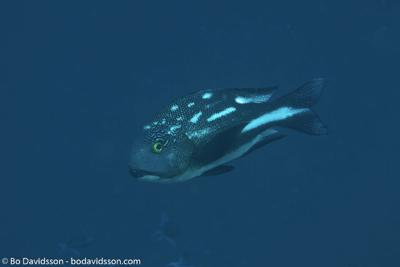Lutjanidae -Snappers-: (124, 66, 331, 188)
